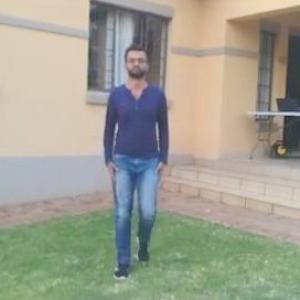follow: (103, 36, 171, 241)
